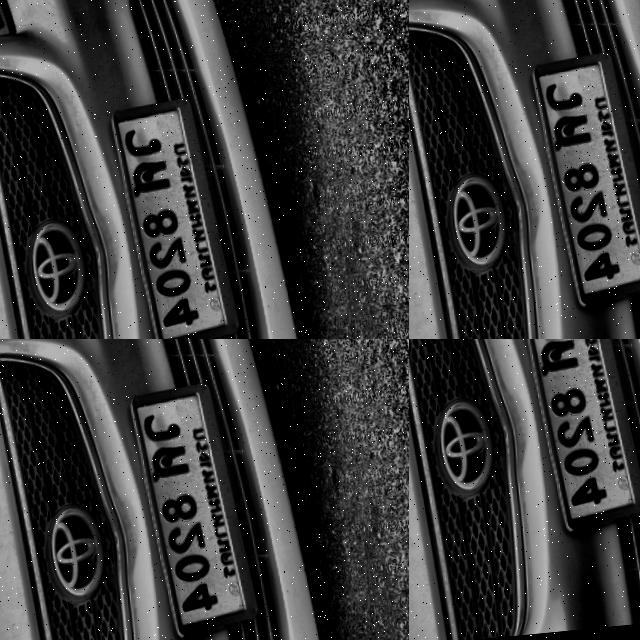license-plate: (511, 339, 640, 544)
